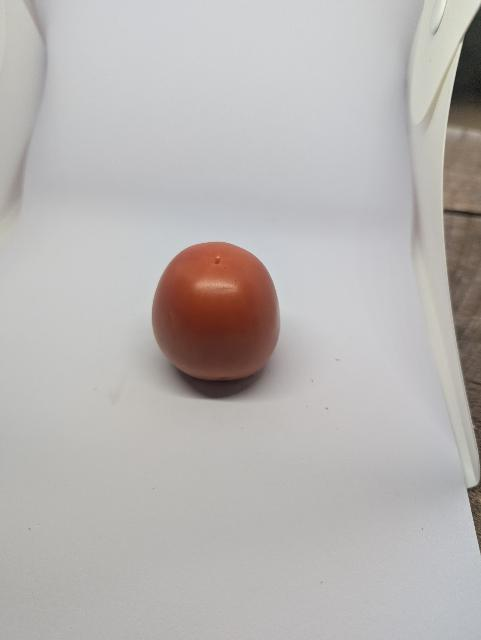red: (147, 236, 289, 399)
